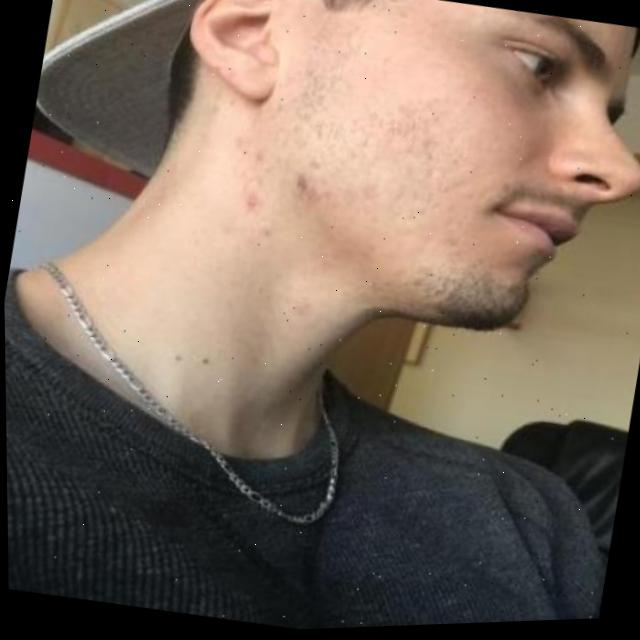Acne: (207, 144, 334, 327)
